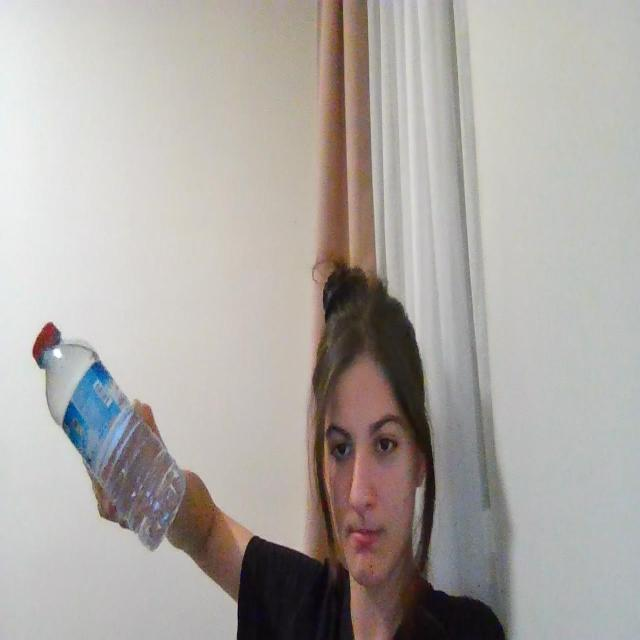bottle: (31, 320, 185, 550)
